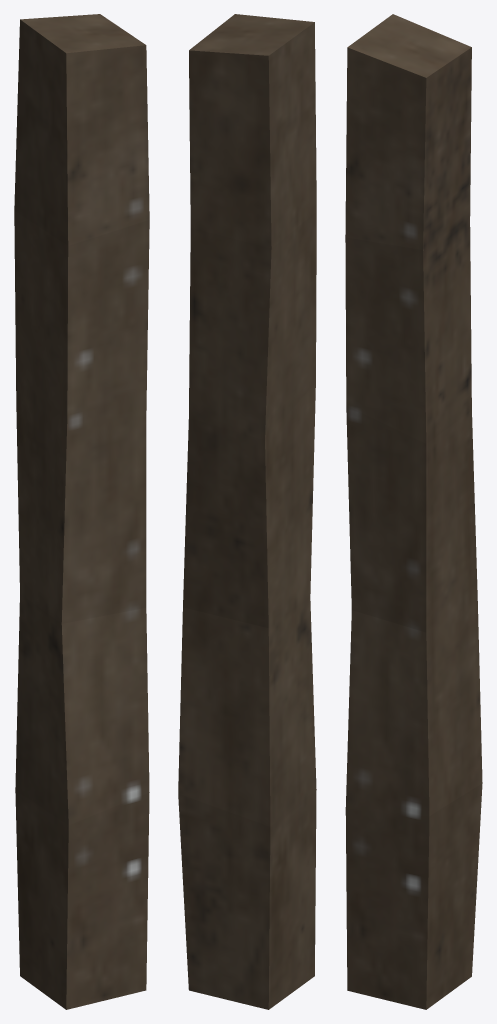
Rendered from FenceVerticalPlank_02.fbx.
3 views of the same model, side by side, from view 1: azimuth 30°, elevation 25°; view 2: azimuth 150°, elevation 25°; view 3: azimuth 330°, elevation 25° (orthographic).
Visible parts, largest first — view 1: vertical_plank.001; view 2: vertical_plank.001; view 3: vertical_plank.001.
Boxes of the visible parts, x1,y1,x2,y2 form: vertical_plank.001: (14,14,149,1009); vertical_plank.001: (178,14,316,1009); vertical_plank.001: (345,14,482,1009).
Size of the model in its own units: 0.5495 by 5.4 by 0.5453.
